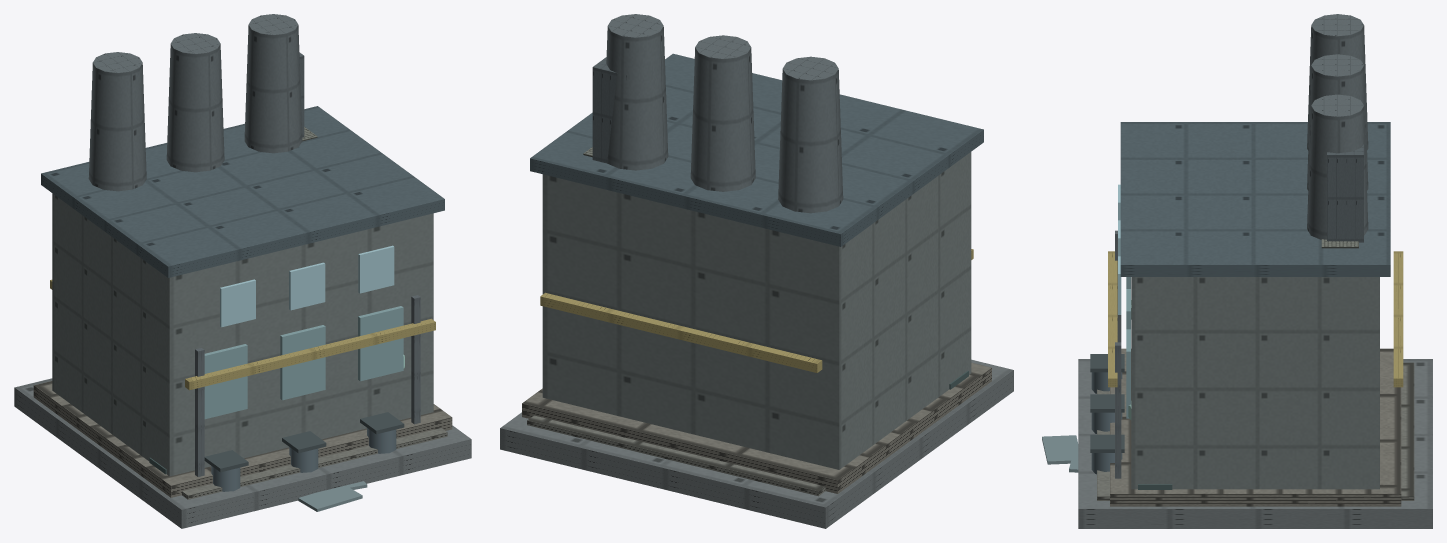
File: procedural_refinery@6.glb
The picture shows the model from 3 angles, left to right: view 1: azimuth 30°, elevation 25°; view 2: azimuth 150°, elevation 25°; view 3: azimuth 270°, elevation 25°; orthographic projection. The views are drawn at different scales.
Parts seen in each view (by area): view 1: part_1, part_3, part_4, part_29, part_2, part_0, part_35, part_26, part_32, part_33, part_31, part_27 (+8 smaller); view 2: part_1, part_3, part_4, part_29, part_0, part_34, part_26, part_30; view 3: part_1, part_3, part_29, part_4, part_0, part_30, part_26, part_34, part_35, part_13, part_28, part_2 (+2 smaller).
Part boxes in pixels (x1,y1,x2,y2): part_1: [52, 193, 433, 476]; part_3: [41, 106, 444, 277]; part_4: [88, 14, 302, 191]; part_29: [14, 378, 471, 528]; part_2: [204, 306, 403, 419]; part_0: [33, 381, 452, 497]; part_35: [185, 318, 435, 390]; part_26: [182, 428, 447, 499]; part_32: [289, 262, 325, 310]; part_33: [358, 245, 394, 293]; part_31: [220, 279, 255, 327]; part_27: [195, 348, 204, 476]; part_1: [542, 152, 971, 469]; part_3: [530, 53, 983, 246]; part_4: [606, 14, 843, 213]; part_29: [500, 359, 1013, 528]; part_0: [522, 362, 991, 493]; part_34: [540, 292, 822, 372]; part_26: [527, 415, 825, 496]; part_30: [592, 57, 626, 163]; part_1: [1131, 277, 1379, 489]; part_3: [1120, 122, 1390, 276]; part_29: [1078, 359, 1432, 528]; part_4: [1307, 14, 1368, 239]; part_0: [1110, 348, 1401, 506]; part_30: [1327, 144, 1363, 242]; part_26: [1097, 362, 1414, 500]; part_34: [1393, 251, 1403, 387]; part_35: [1108, 251, 1117, 387]; part_13: [1042, 435, 1078, 464]; part_28: [1115, 342, 1121, 478]; part_2: [1126, 277, 1130, 418].
Bounding box in the file's own units: 6.7 × 8.01 × 7.39.
20 materials, 10 textured.
